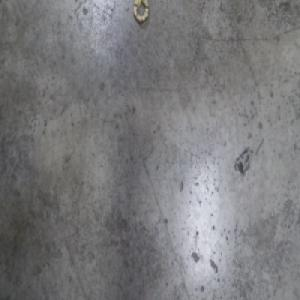Nut: (132, 0, 150, 26)
